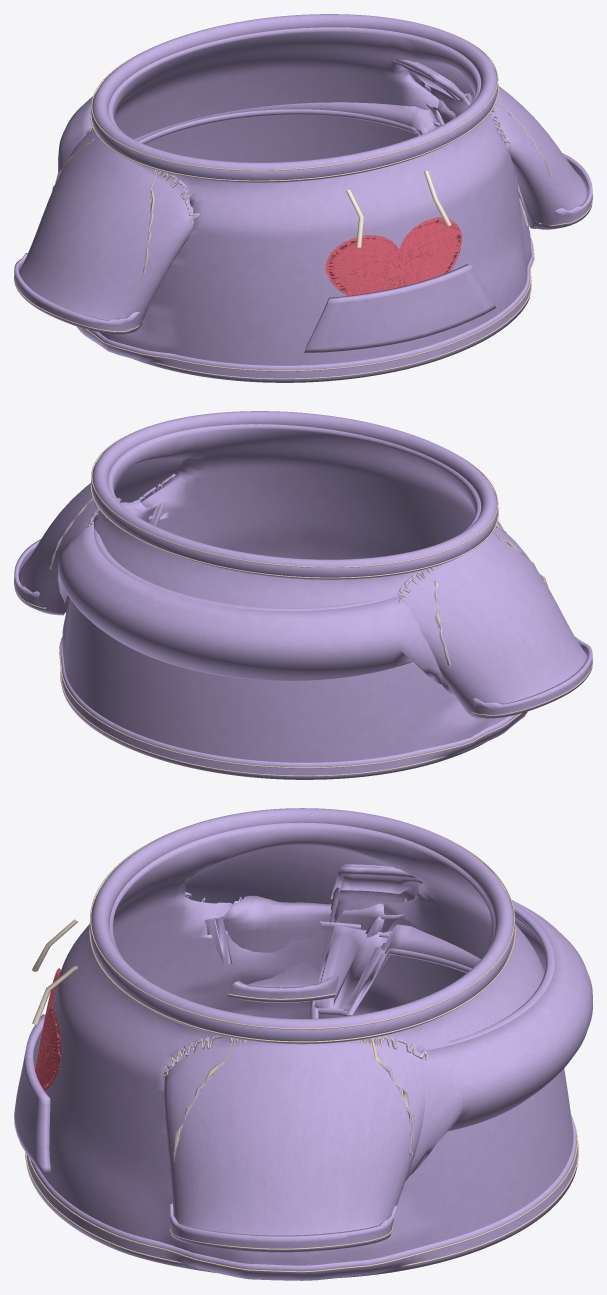
The model's file is sewn_hoodie_nido_pig.glb.
3 views of the same model, one above another, from view 1: azimuth 30°, elevation 25°; view 2: azimuth 150°, elevation 25°; view 3: azimuth 270°, elevation 25° (orthographic). The views are drawn at different scales.
Visible parts, largest first — view 1: Manga adaptada · Camiseta cosida continua, Dobladillo de algodón · Cuello, Panel · bolsillo canguro, Dobladillo de algodón · Bajo, Bordado corazón · tejido continuo, Panel · capucha bajada cosida, Ribete continuo de capucha, Dobladillo de manga cosida -1, Dobladillo de manga cosida 1, Pespunte · Cuello.001, Pespunte · Bajo.001, Pespunte · Cuello (+1 smaller); view 2: Manga adaptada · Camiseta cosida continua, Panel · capucha bajada cosida, Dobladillo de algodón · Cuello, Dobladillo de algodón · Bajo, Dobladillo de manga cosida -1, Ribete continuo de capucha, Pespunte · Cuello.001, Pespunte · Bajo.001, Dobladillo de manga cosida 1, Pespunte · Cuello, Pespunte · Bajo; view 3: Manga adaptada · Camiseta cosida continua, Panel · capucha bajada cosida, Dobladillo de algodón · Cuello, Dobladillo de algodón · Bajo, Ribete continuo de capucha, Dobladillo de manga cosida 1, Panel · bolsillo canguro, Dobladillo de manga cosida -1, Bordado corazón · tejido continuo, Pespunte · Cuello.001, Pespunte · Bajo.001, Pespunte · Cuello (+2 smaller).
Part boxes in pixels (x1,y1,x2,y2): Manga adaptada · Camiseta cosida continua: (19,27,588,365); Dobladillo de algodón · Cuello: (91,14,498,182); Panel · bolsillo canguro: (304,264,495,353); Dobladillo de algodón · Bajo: (76,237,533,382); Bordado corazón · tejido continuo: (325,217,462,295); Panel · capucha bajada cosida: (58,61,466,171); Ribete continuo de capucha: (138,60,474,144); Dobladillo de manga cosida -1: (14,253,147,334); Dobladillo de manga cosida 1: (435,110,592,228); Pespunte · Cuello.001: (91,34,498,170); Pespunte · Bajo.001: (84,243,534,371); Pespunte · Cuello: (90,85,498,181); Manga adaptada · Camiseta cosida continua: (18,424,587,762); Panel · capucha bajada cosida: (57,524,456,698); Dobladillo de algodón · Cuello: (91,411,498,579); Dobladillo de algodón · Bajo: (60,637,526,779); Dobladillo de manga cosida -1: (469,637,592,718); Ribete continuo de capucha: (94,498,385,611); Pespunte · Cuello.001: (91,430,498,567); Pespunte · Bajo.001: (59,643,521,768); Dobladillo de manga cosida 1: (14,503,165,612); Pespunte · Cuello: (90,481,498,578); Pespunte · Bajo: (60,670,446,776); Manga adaptada · Camiseta cosida continua: (40,822,573,1277); Panel · capucha bajada cosida: (314,864,592,1180); Dobladillo de algodón · Cuello: (90,808,514,1044); Dobladillo de algodón · Bajo: (26,1114,577,1280); Ribete continuo de capucha: (310,865,554,1048); Dobladillo de manga cosida 1: (169,1202,397,1252); Panel · bolsillo canguro: (14,1014,51,1173); Dobladillo de manga cosida -1: (204,916,384,1002); Bordado corazón · tejido continuo: (35,968,60,1090); Pespunte · Cuello.001: (90,833,514,1029); Pespunte · Bajo.001: (28,1121,577,1272); Pespunte · Cuello: (89,924,515,1042).
Bounding box in the file's own units: 0.7883 × 0.2738 × 0.591.
4 materials, 2 textured.
